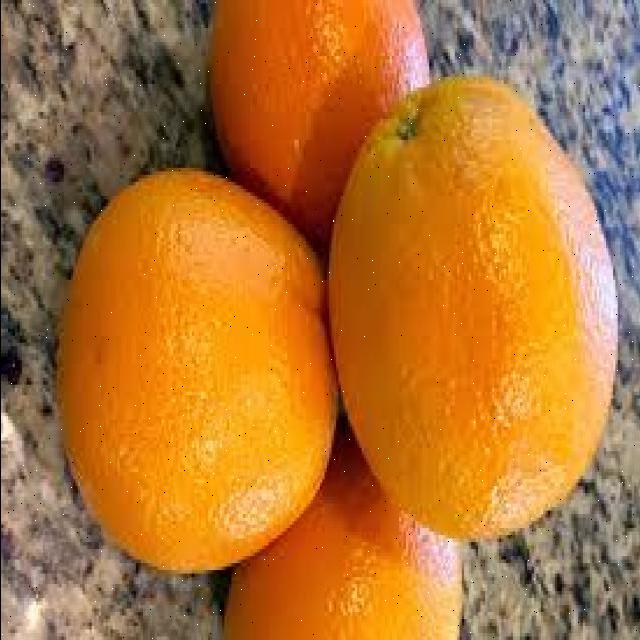Orange: (327, 74, 620, 542), (55, 167, 338, 575), (207, 0, 432, 242), (221, 429, 466, 638)
